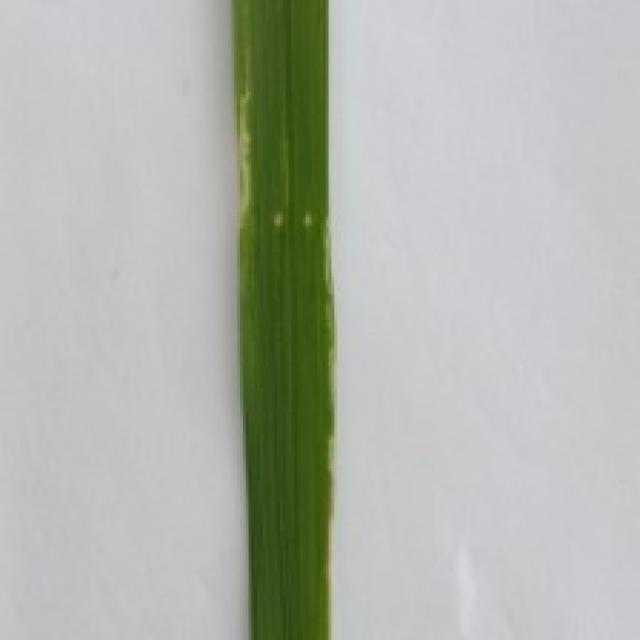Bacterial_Blight: (322, 212, 344, 524), (229, 44, 261, 244)
